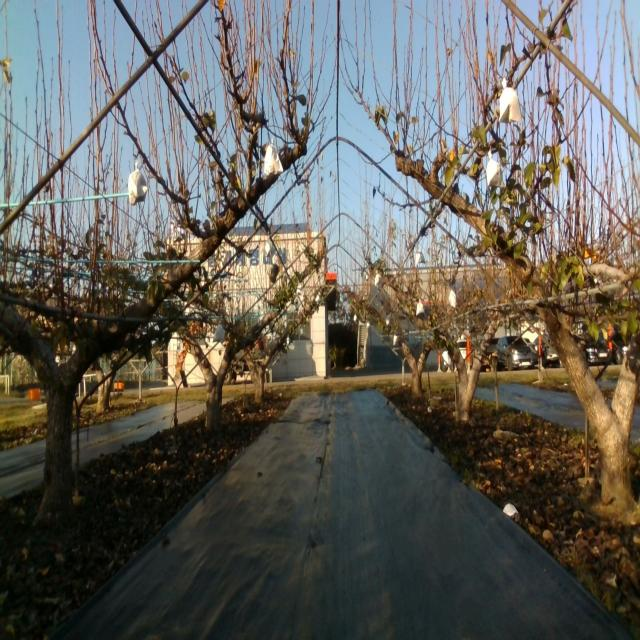pearbags: (496, 79, 523, 126), (127, 161, 149, 205), (486, 149, 506, 192), (263, 139, 284, 179), (264, 240, 276, 261), (212, 323, 225, 342)
